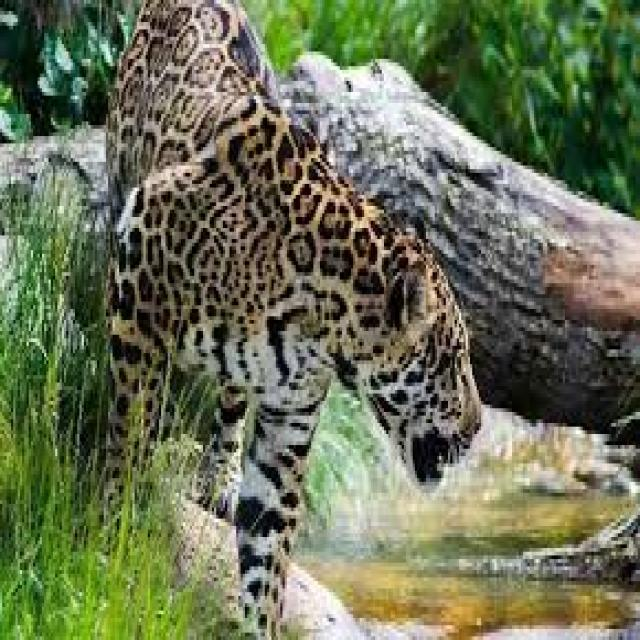Jaguar: (92, 0, 486, 640)
